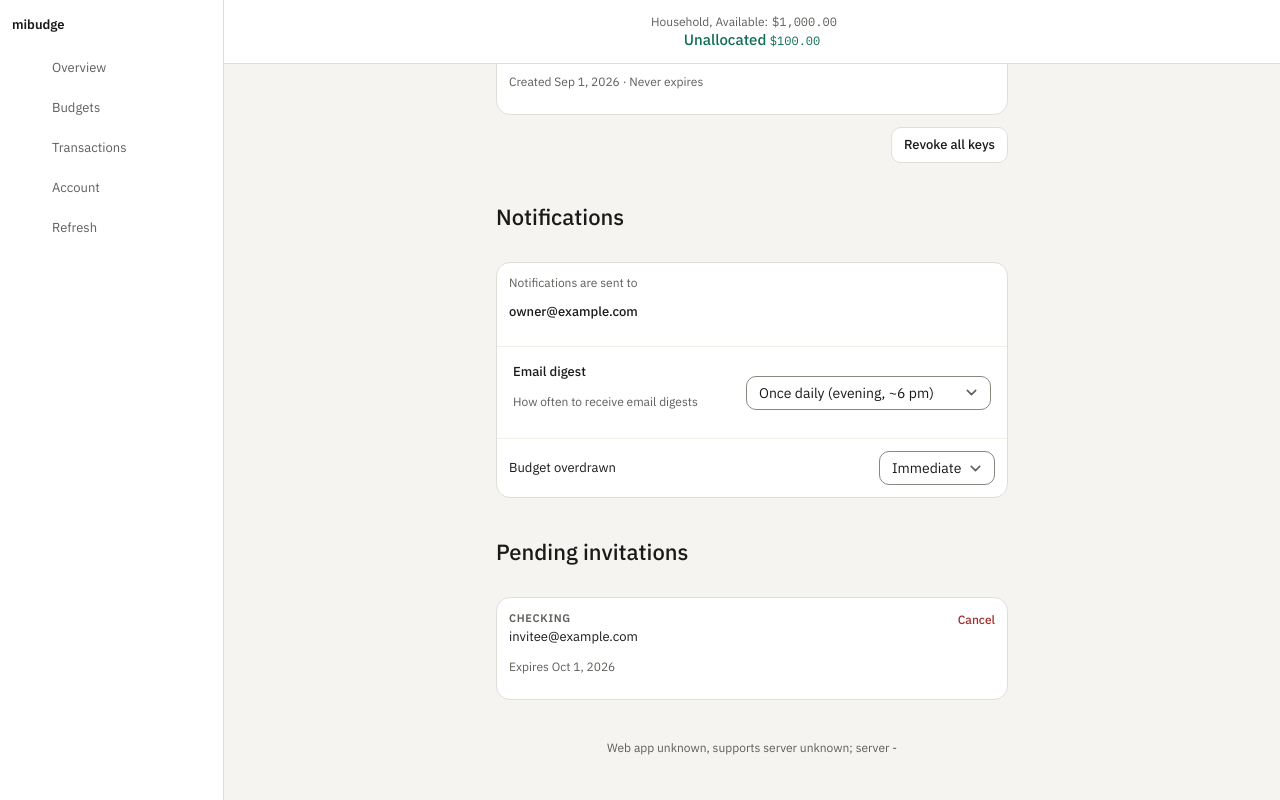
Scenario: settings pages › shows why cancelling a sent invitation failed
The image size is (1280, 800).
(page scrolled)
What coordinates should you click on to do the following:
click the button "Cancel"
I would click on:
 (976, 620)
Its box is [958,612,995,628].
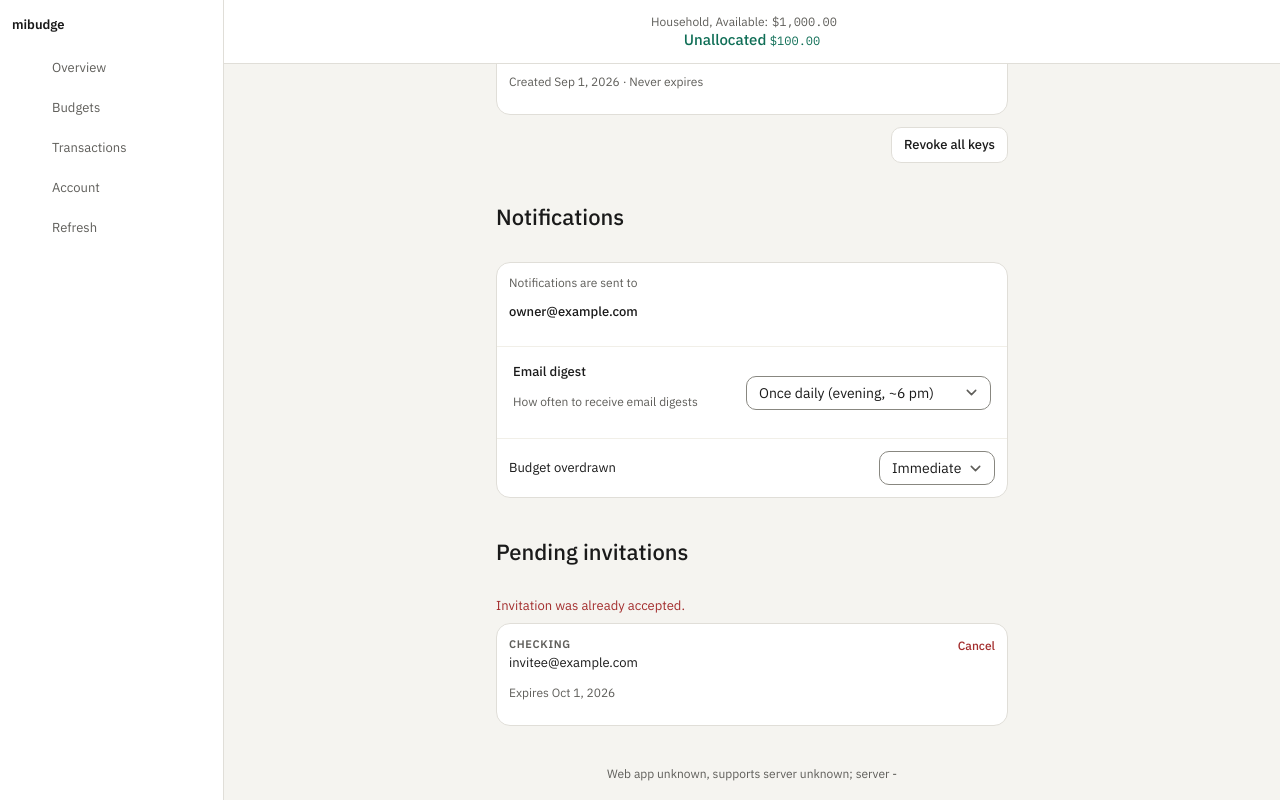
Check: the text "invitee@example.com" is shown, box [509,654,638,672]
Check: the text "Invitation was already accepted." is shown, box [496,597,685,614]
